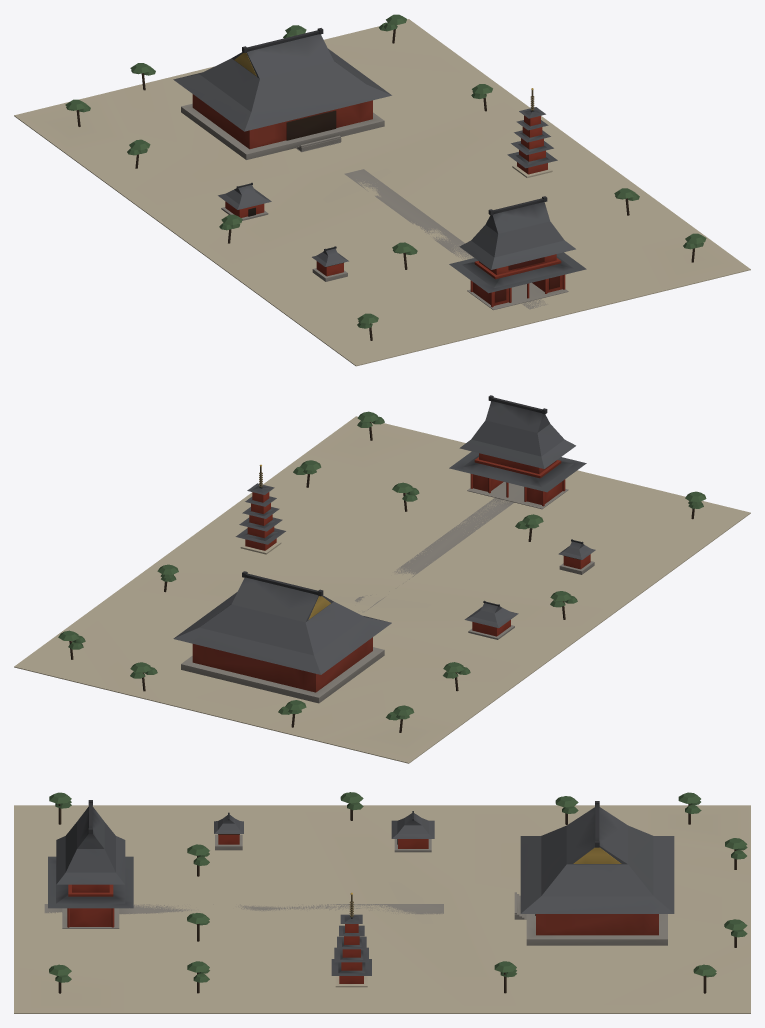
File: zojoji.glb
The picture shows the model from 3 angles, top to bottom: view 1: azimuth 30°, elevation 25°; view 2: azimuth 150°, elevation 25°; view 3: azimuth 270°, elevation 25°; orthographic projection. The views are drawn at different scales.
Visible parts, largest first — view 1: p0_precinct, p2_Daiden, p1_Sanmon; view 2: p0_precinct, p2_Daiden, p1_Sanmon; view 3: p0_precinct, p2_Daiden, p1_Sanmon.
Part boxes in pixels (x1,y1,x2,y2): p0_precinct: (14, 19, 750, 366); p2_Daiden: (65, 14, 706, 340); p1_Sanmon: (449, 196, 586, 310); p0_precinct: (14, 416, 750, 763); p2_Daiden: (58, 411, 706, 732); p1_Sanmon: (449, 395, 586, 509); p0_precinct: (14, 805, 750, 1013); p2_Daiden: (49, 792, 747, 993); p1_Sanmon: (48, 800, 133, 928).
Size of the model in its own units: 160 by 34.36 by 240.
